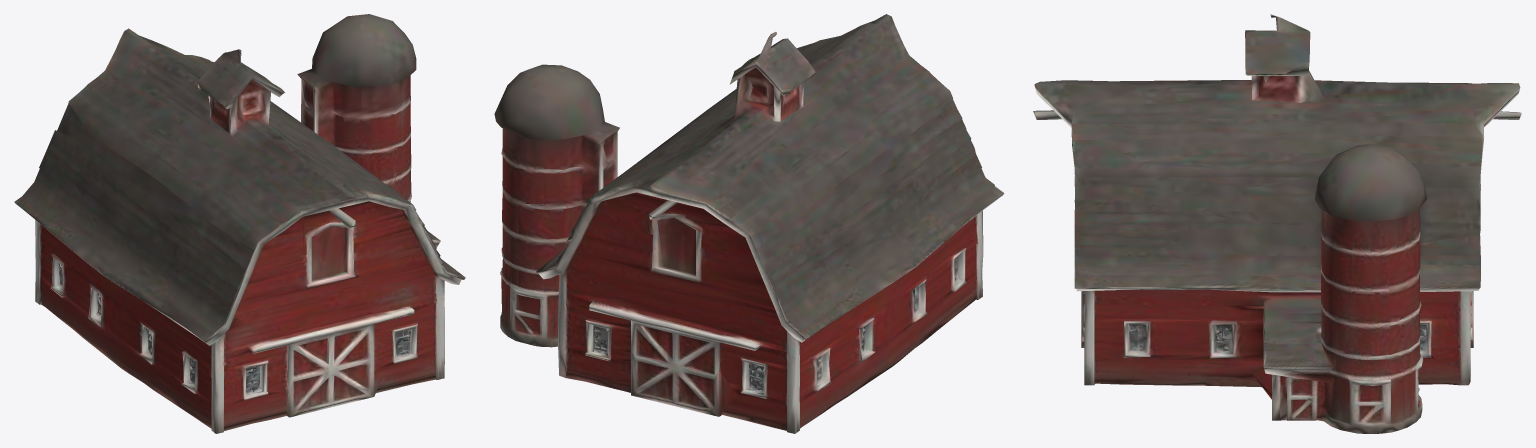
File: red_barn_silo.glb
3 views of the same model, side by side, from view 1: azimuth 30°, elevation 25°; view 2: azimuth 150°, elevation 25°; view 3: azimuth 270°, elevation 25° (orthographic). The views are drawn at different scales.
Parts seen in each view (by area): view 1: tripo_node_887735cc-b3a5-4ed3-8f67-a3c02e240f48; view 2: tripo_node_887735cc-b3a5-4ed3-8f67-a3c02e240f48; view 3: tripo_node_887735cc-b3a5-4ed3-8f67-a3c02e240f48.
Boxes of the visible parts, <box> form: tripo_node_887735cc-b3a5-4ed3-8f67-a3c02e240f48: <box>14,14,465,433</box>; tripo_node_887735cc-b3a5-4ed3-8f67-a3c02e240f48: <box>494,14,1004,433</box>; tripo_node_887735cc-b3a5-4ed3-8f67-a3c02e240f48: <box>1033,14,1521,433</box>.
Bounding box in the file's own units: 0.8677 × 0.6842 × 0.9755.
1 material, 1 textured.
